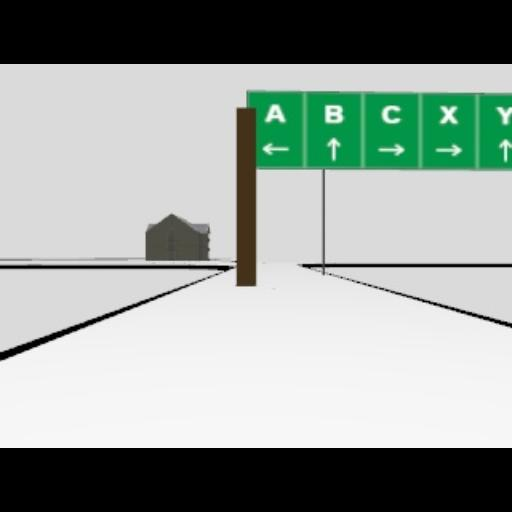A: (264, 102, 286, 124)
B: (324, 104, 342, 124)
C: (380, 104, 402, 124)
Left: (260, 142, 290, 156)
Right: (378, 142, 404, 156), (434, 144, 460, 156)
Straight: (327, 136, 341, 160), (498, 138, 510, 160)
X: (438, 104, 458, 124)
Y: (494, 105, 512, 123)
